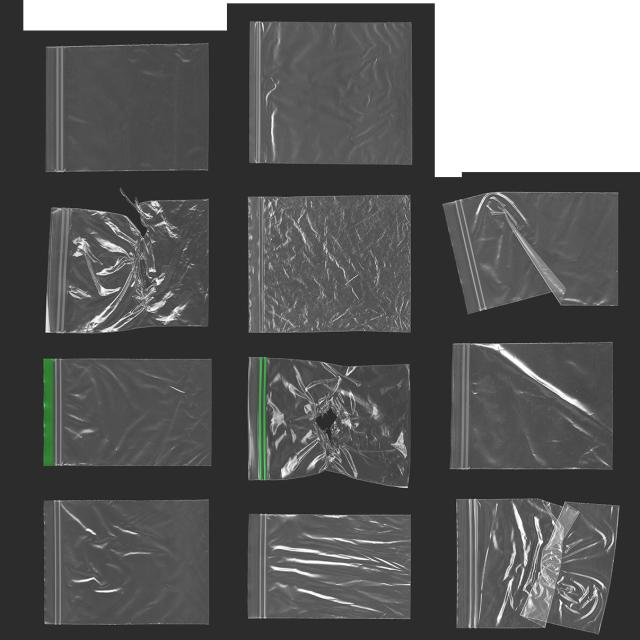Single-layer Plastic: (249, 195, 411, 332), (259, 22, 411, 164), (46, 200, 209, 332), (444, 192, 618, 313), (458, 499, 619, 629), (248, 358, 410, 487), (46, 43, 209, 171), (44, 500, 209, 624), (450, 343, 612, 469), (44, 359, 211, 466), (248, 514, 411, 618)
